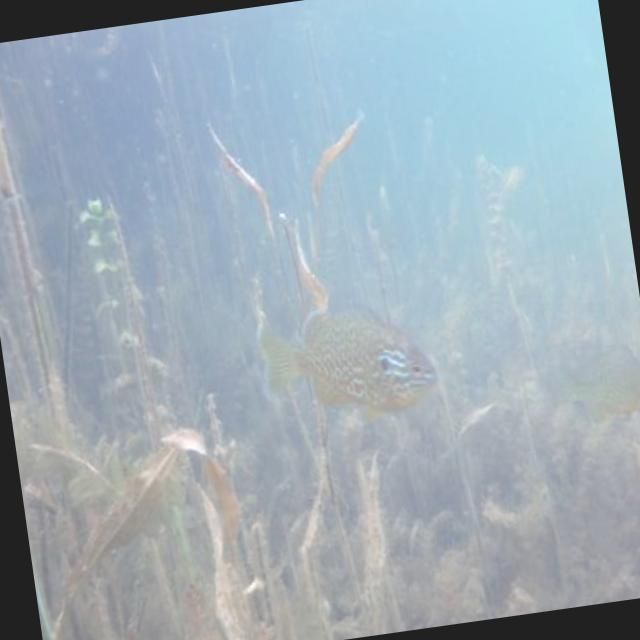Gunes Levregi: (245, 292, 444, 432)
